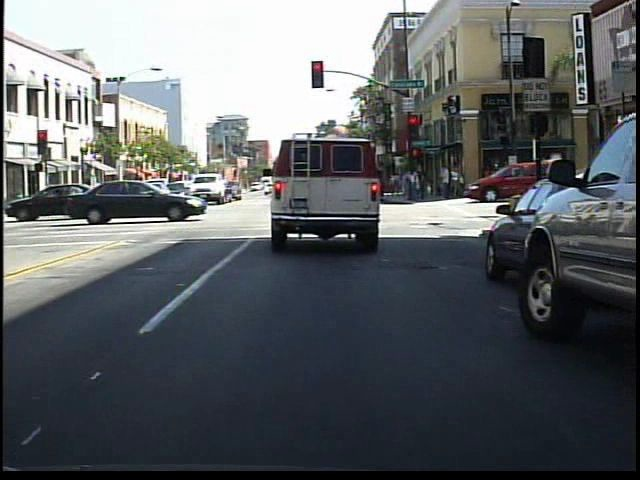person: (480, 161, 500, 198)
